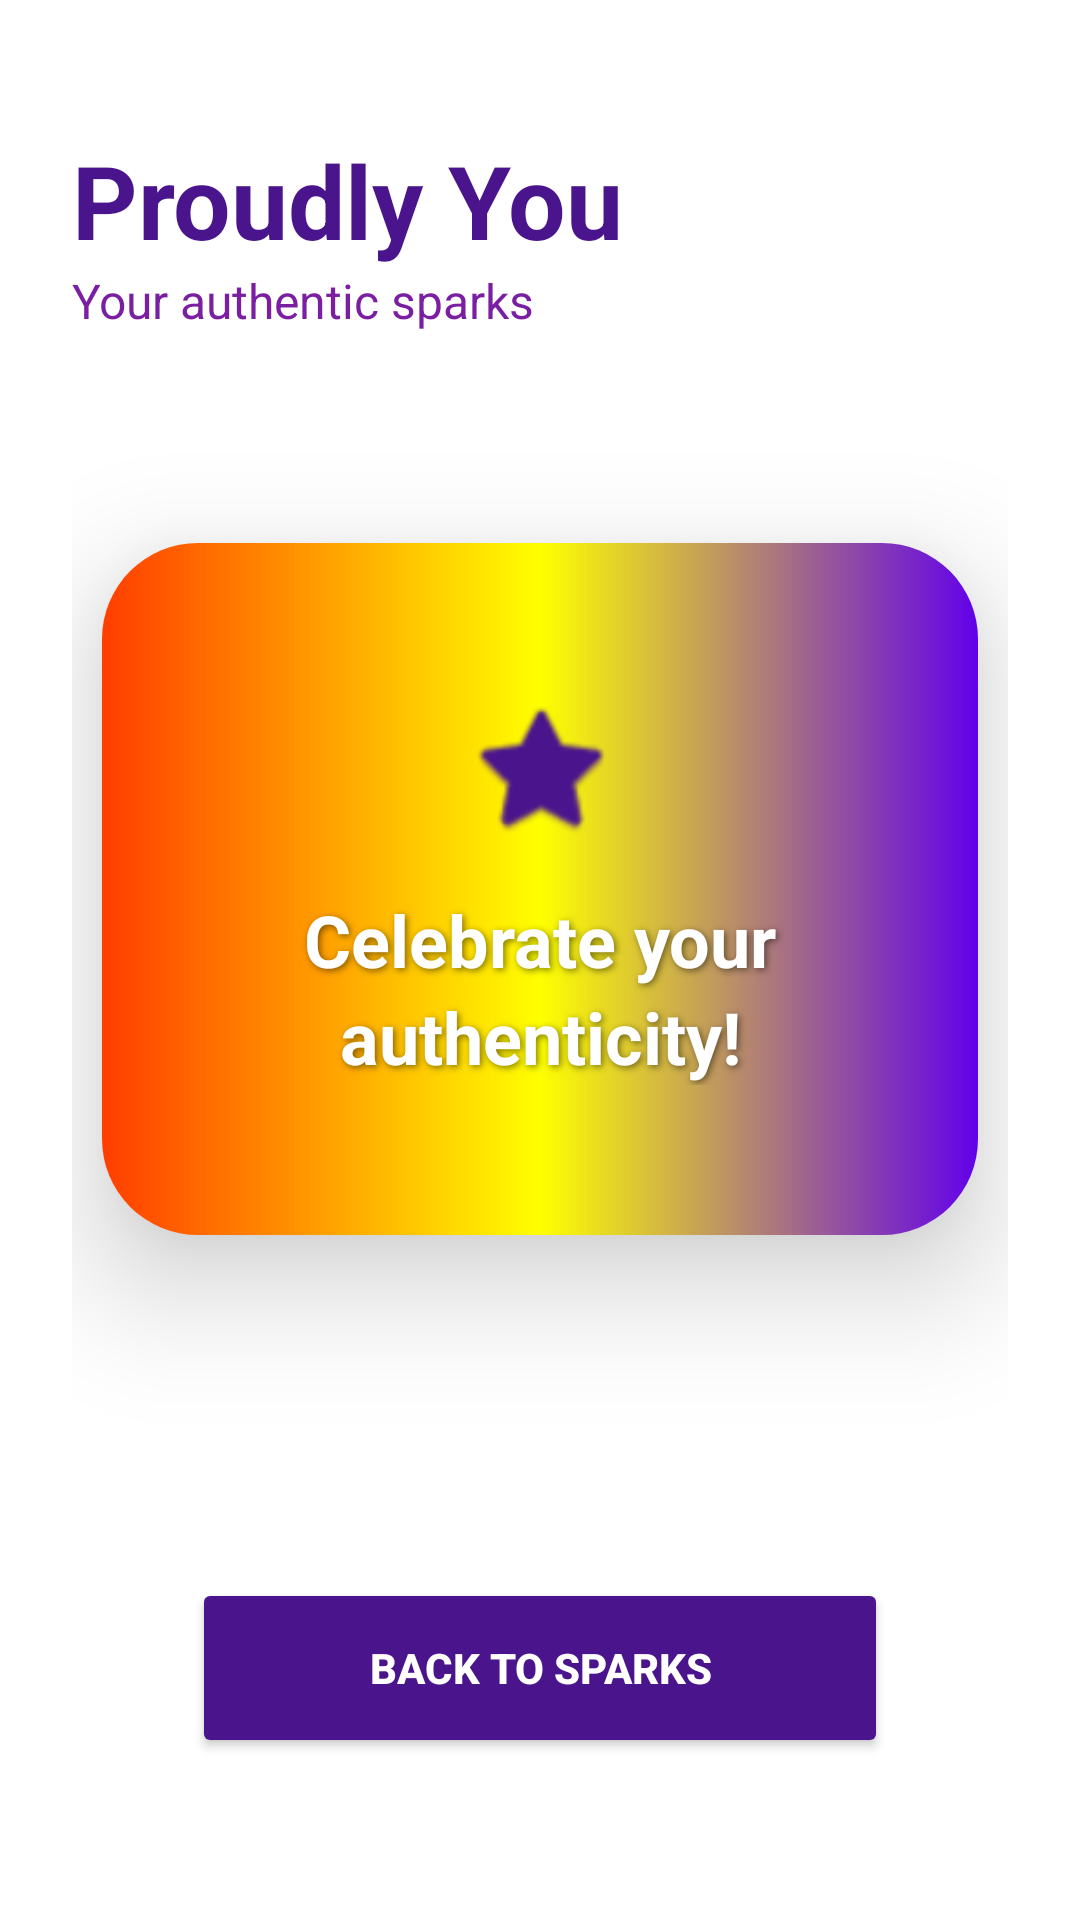

Named icons in this screenshot (1080×1920) and their centers, (x,y):
star on: (540,768)
